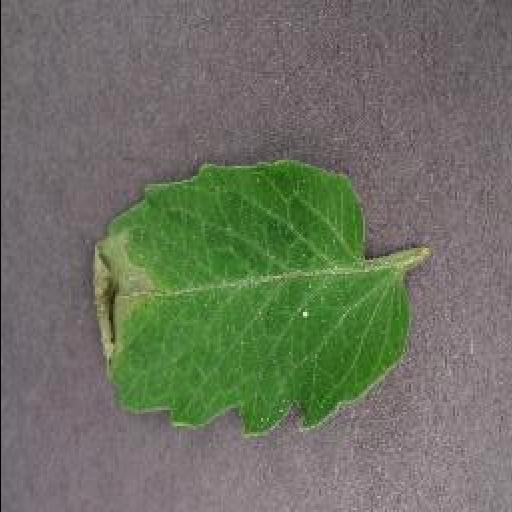disease_tomato: (89, 158, 415, 442)
